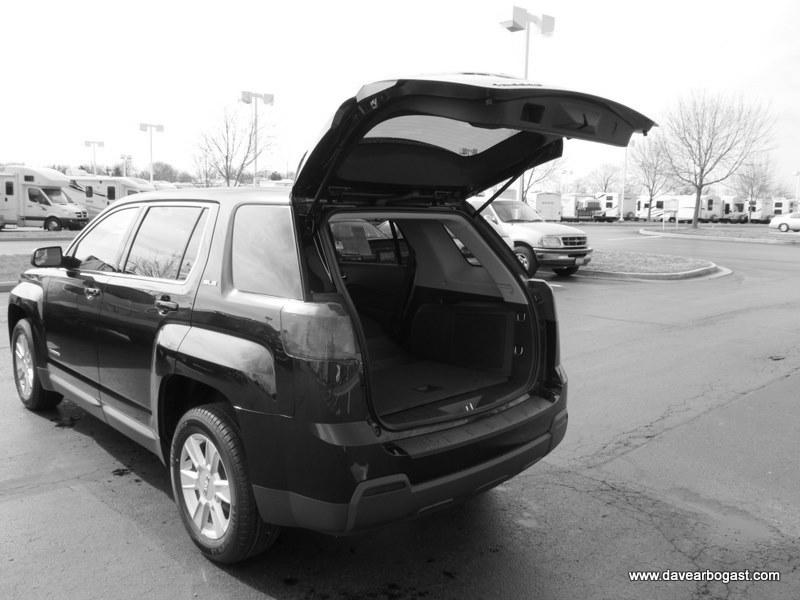car: (3, 76, 666, 570)
